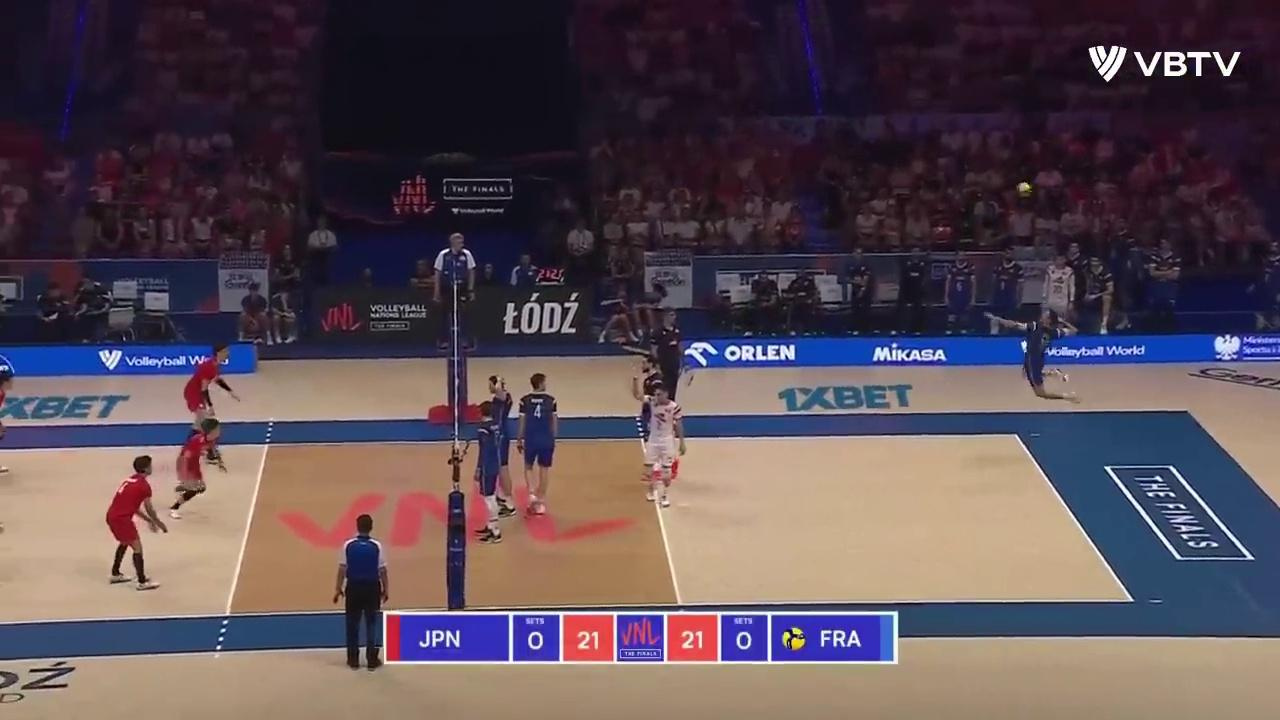ball: (1018, 183, 1032, 197)
